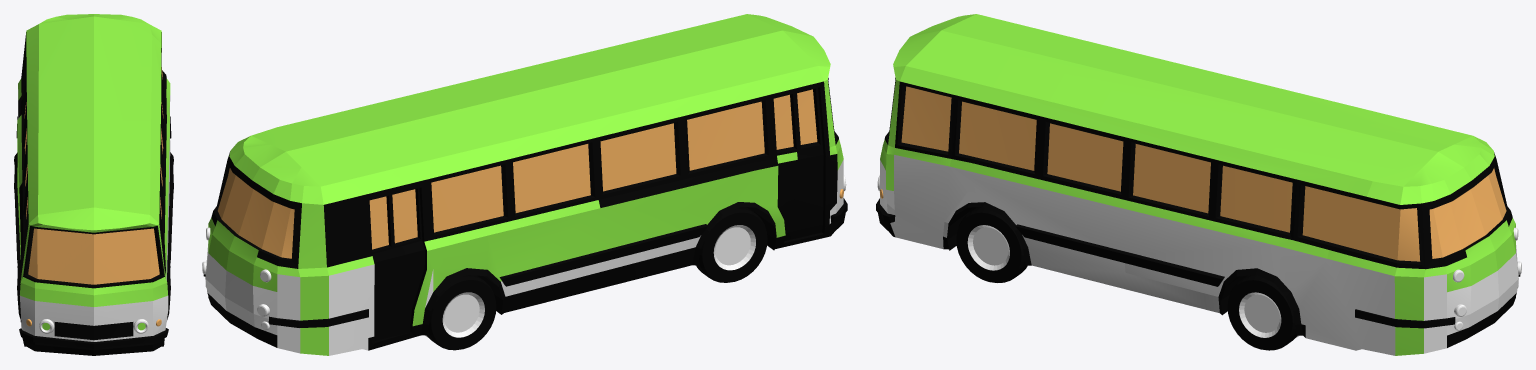
Rendered from Toy77.fbx.
3 renders of one model, left to right at view 1: azimuth 30°, elevation 25°; view 2: azimuth 150°, elevation 25°; view 3: azimuth 270°, elevation 25°, orthographic. The views are drawn at different scales.
Visible parts, largest first — view 1: Toy77; view 2: Toy77; view 3: Toy77.
Part boxes in pixels (box(x1,y1,x2,y2)): Toy77: box(14, 14, 173, 355); Toy77: box(202, 14, 847, 355); Toy77: box(876, 14, 1521, 355).
Size of the model in its own units: 0.1872 by 0.0874 by 0.2584.
